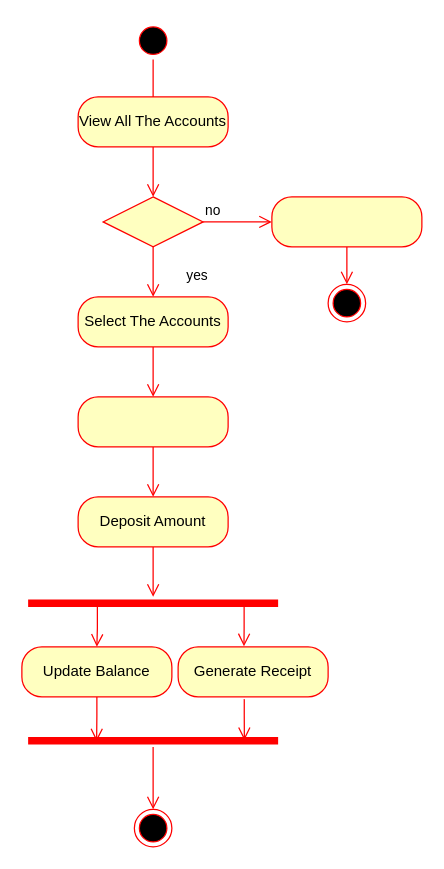
The diagram is 444 pixels wide and 869 high, and some of its shapes have lost their labels. The box of each missing label's shape, as (x1, y1, x2, y2) in pixels:
Alert"No Account Found": (271, 196, 422, 247)
Enter Amount: (77, 396, 228, 447)
